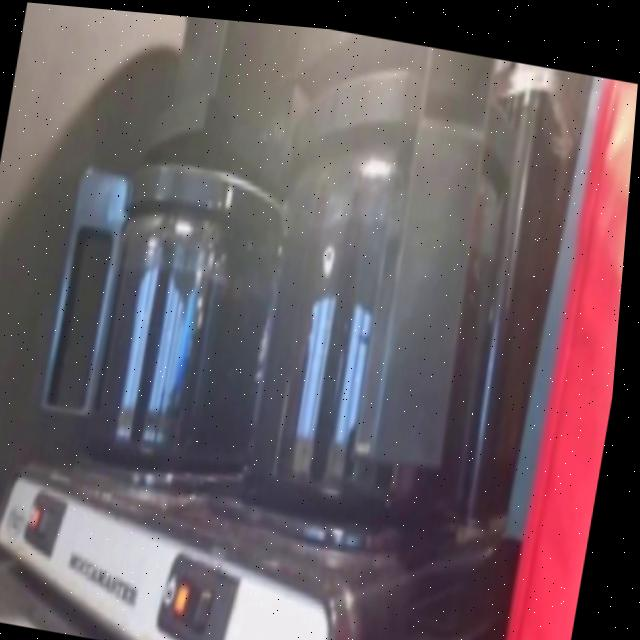coffee: (248, 182, 498, 517), (88, 214, 280, 468)
